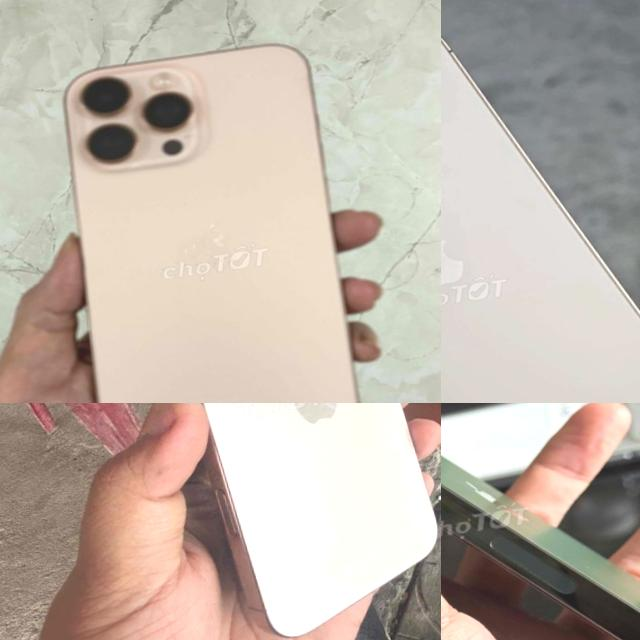gen_12_13: (441, 0, 640, 403), (441, 403, 640, 640)
gen_16: (63, 44, 359, 403), (201, 403, 436, 637)
